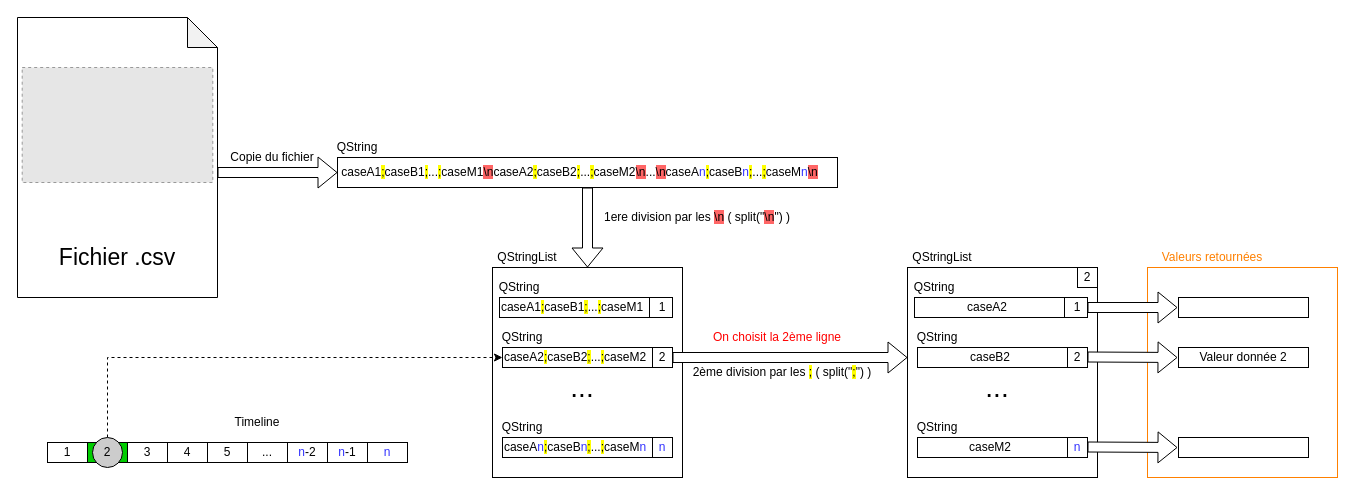
This 1355x495 diagram has some shape labels left out. Grey dashed boxes stand in for pictures. Each missing label, with the box of its shape:
Valeur donnée 1: (1178, 296, 1308, 318)
Valeur donnée n: (1178, 436, 1308, 458)
